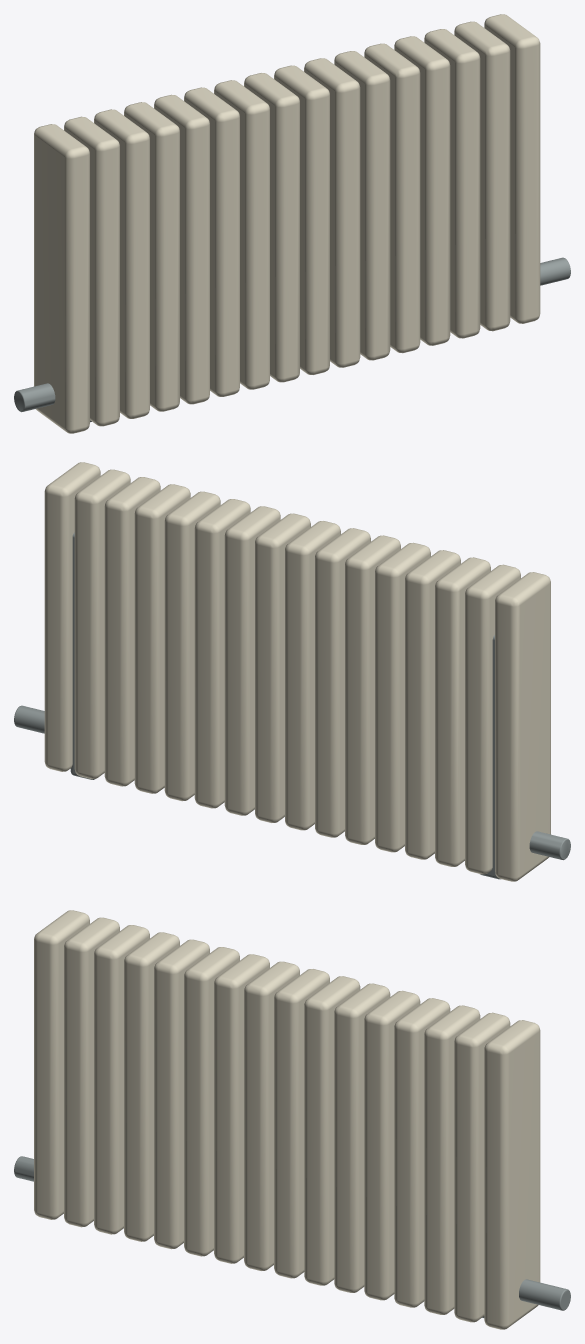
The model's file is H_Radiator.fbx.
3 views of the same model, one above another, from view 1: azimuth 30°, elevation 25°; view 2: azimuth 150°, elevation 25°; view 3: azimuth 330°, elevation 25° (orthographic).
Visible parts, largest first — view 1: H_Radiator; view 2: H_Radiator; view 3: H_Radiator.
Boxes of the visible parts, box(x1,y1,x2,y2) form: H_Radiator: box(14, 14, 570, 433); H_Radiator: box(14, 462, 570, 881); H_Radiator: box(14, 910, 570, 1329).
Bounding box in the file's own units: 1.53 × 0.775 × 0.18.
